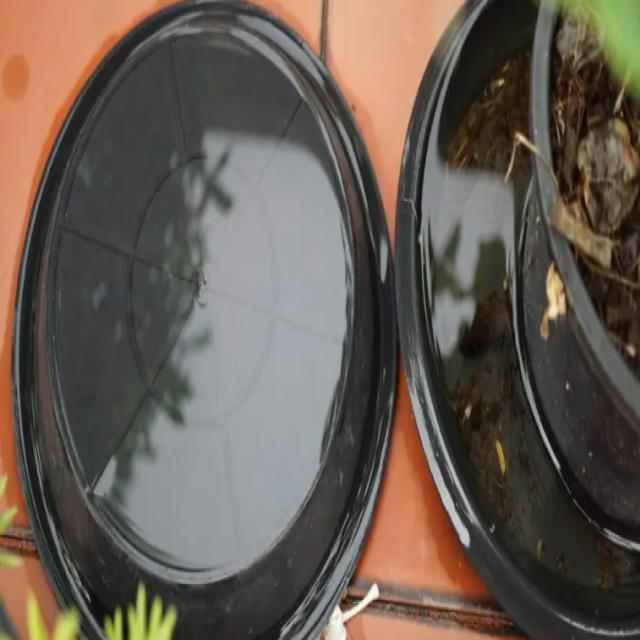Breeding Place: (18, 3, 399, 640), (412, 0, 640, 640)
